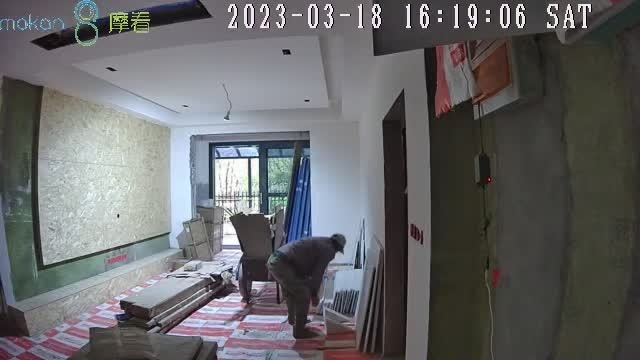people: (266, 234, 346, 338)
window: (210, 142, 305, 243)
